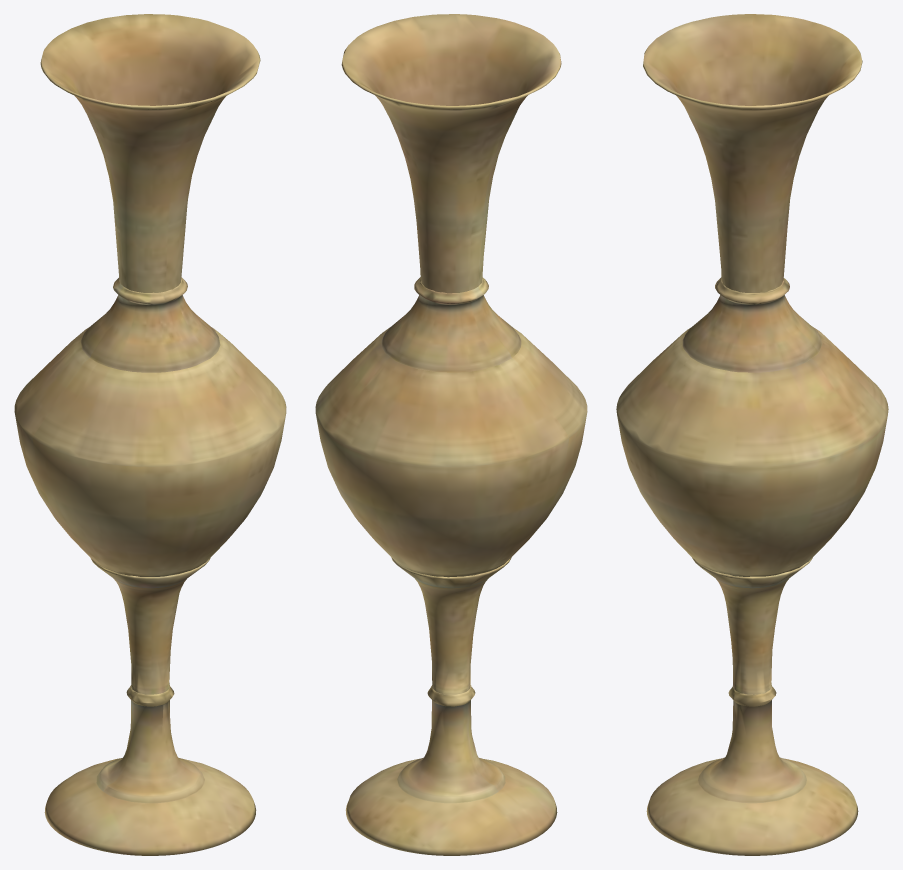
File: vase-brass-01.lite.3ffe520e.glb
3 views of the same model, side by side, from view 1: azimuth 30°, elevation 25°; view 2: azimuth 150°, elevation 25°; view 3: azimuth 270°, elevation 25° (orthographic).
Parts seen in each view (by area): view 1: model; view 2: model; view 3: model.
Part boxes in pixels (box(x1,y1,x2,y2)): model: box(14, 14, 286, 855); model: box(315, 14, 587, 855); model: box(616, 14, 888, 855).
Bounding box in the file's own units: 0.2273 × 0.6925 × 0.2273.
Materials: 1 (1 with a texture image).
